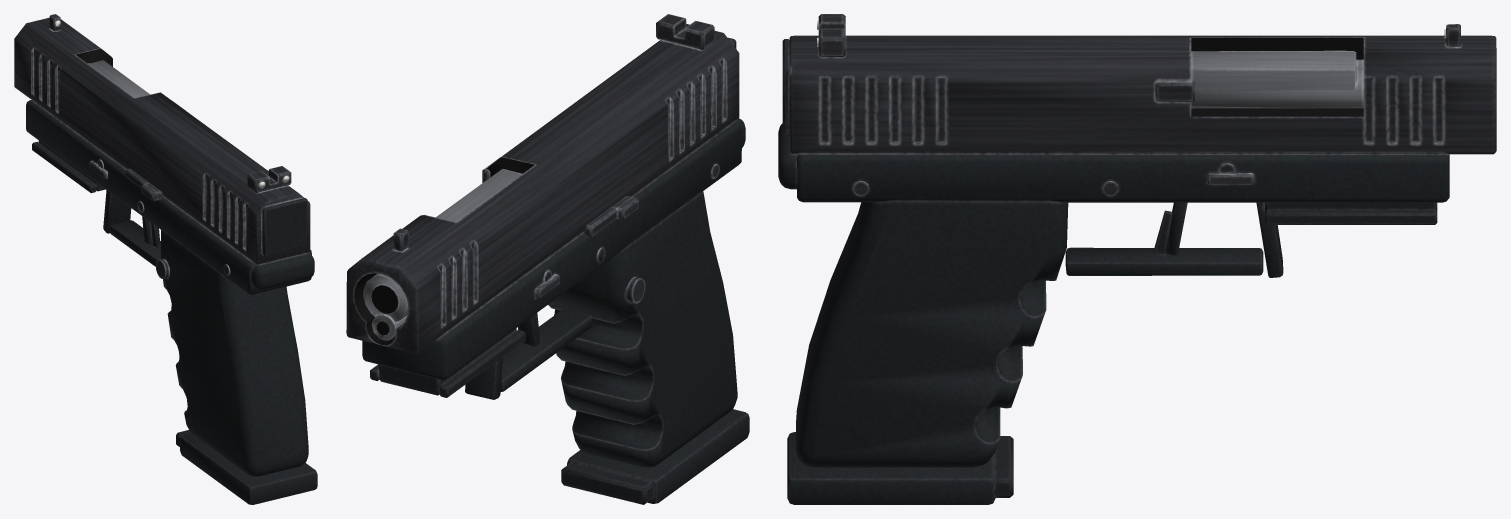
File: pistol.glb
3 renders of one model, left to right at view 1: azimuth 30°, elevation 25°; view 2: azimuth 150°, elevation 25°; view 3: azimuth 270°, elevation 25°, orthographic. The views are drawn at different scales.
Parts seen in each view (by area): view 1: Pistol; view 2: Pistol; view 3: Pistol.
Boxes of the visible parts, box(x1,y1,x2,y2) form: Pistol: box(14, 14, 317, 504); Pistol: box(346, 14, 749, 504); Pistol: box(778, 14, 1496, 504).
Size of the model in its own units: 0.0357 by 0.1405 by 0.2.
Materials: 1 (1 with a texture image).
